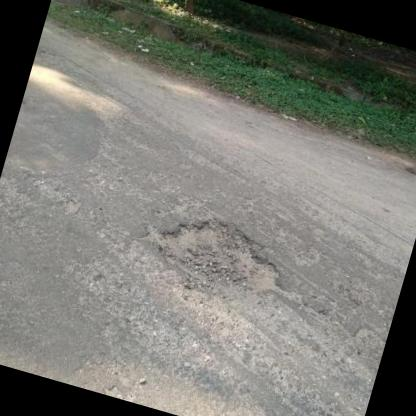pothole: (128, 198, 302, 315)
